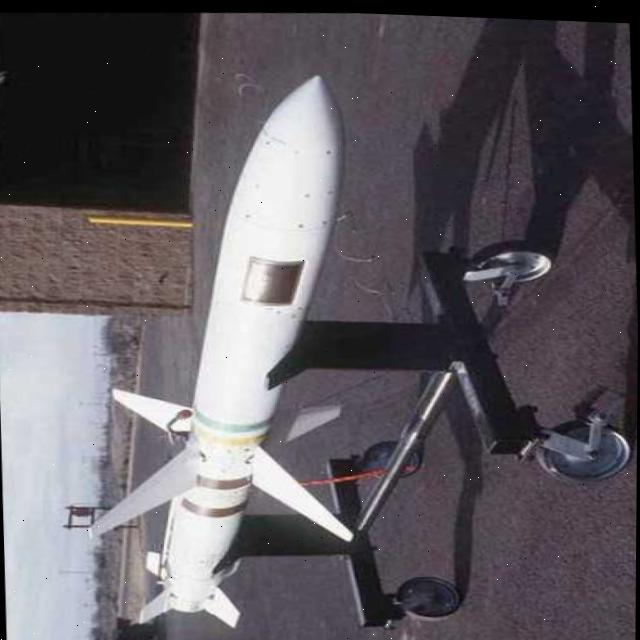missile: (69, 61, 355, 630)
